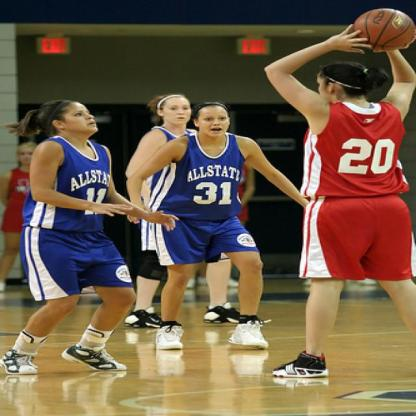basketball: (350, 6, 414, 53)
